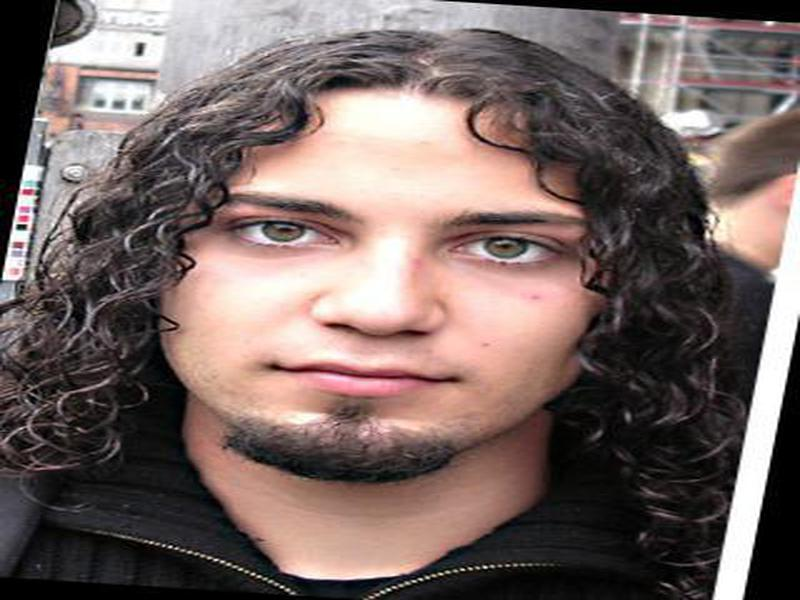without_mask: (159, 84, 606, 485)
